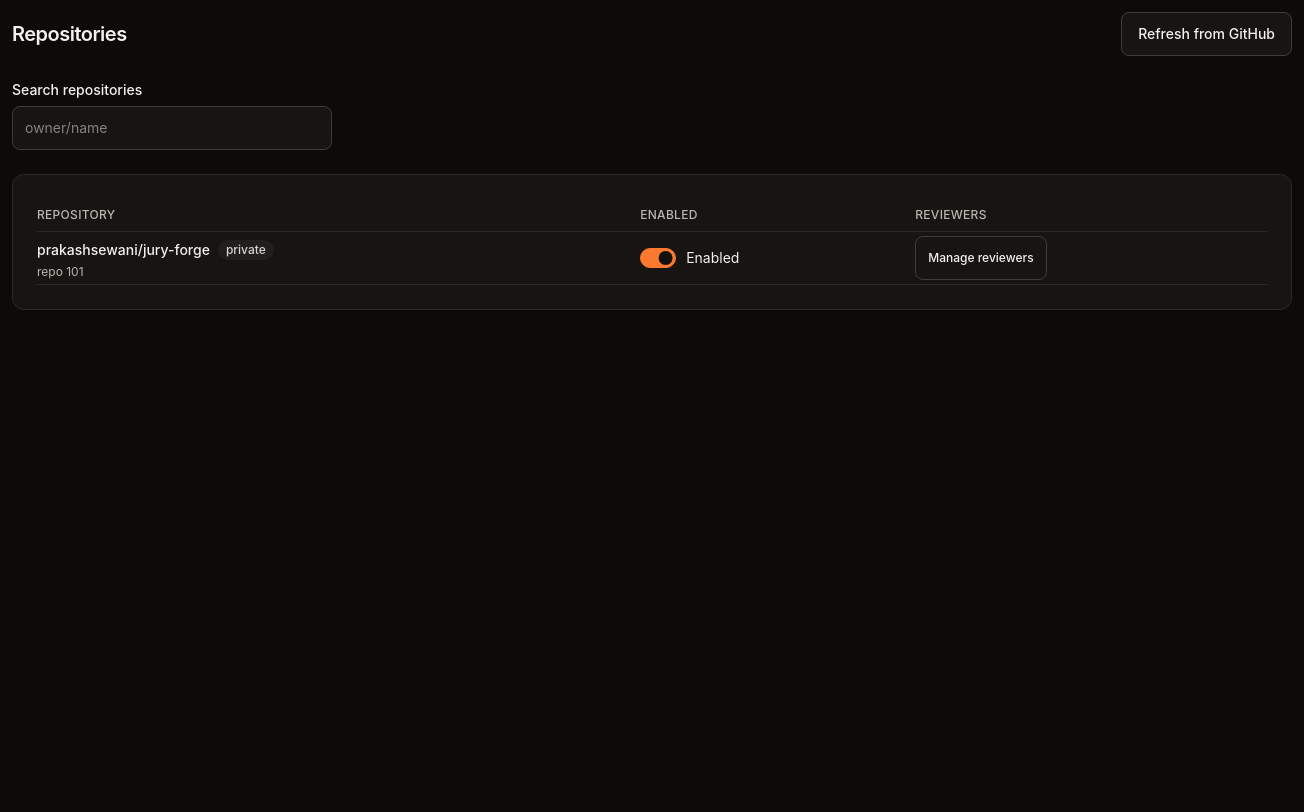
it: RepositoriesPage › expands a row to show the per-repo reviewer toggles
Expected: the text "prakashsewani/jury-forge" is shown, [37,240,210,260]
Click the button "Manage reviewers": coordinates (981, 258) [915,236,1047,280]
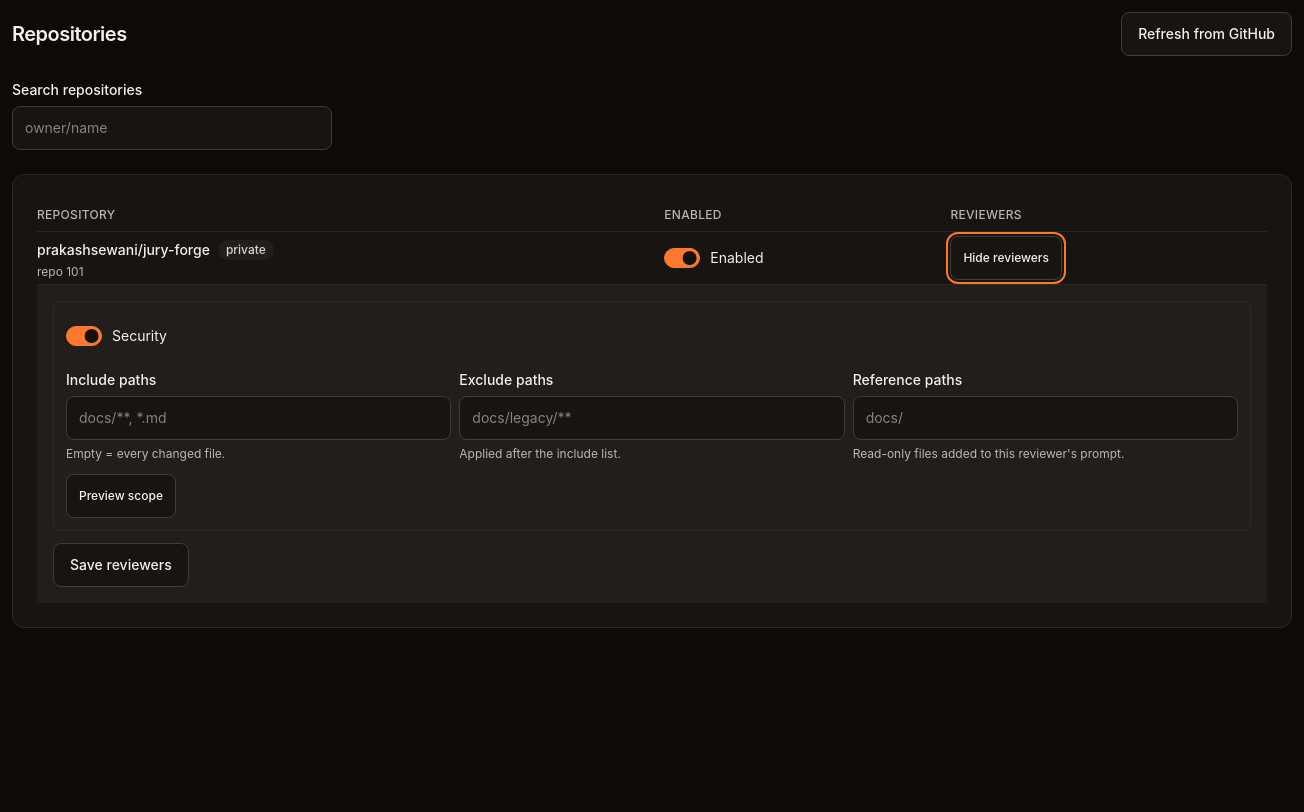
Expected: the switch labelled "Security" is shown, [66,314,167,358]
Expected: the field with placeholder "docs/**, *.md" is shown, [66,396,451,440]
Expected: the field with placeholder "docs/legacy/**" is shown, [459,396,845,440]
